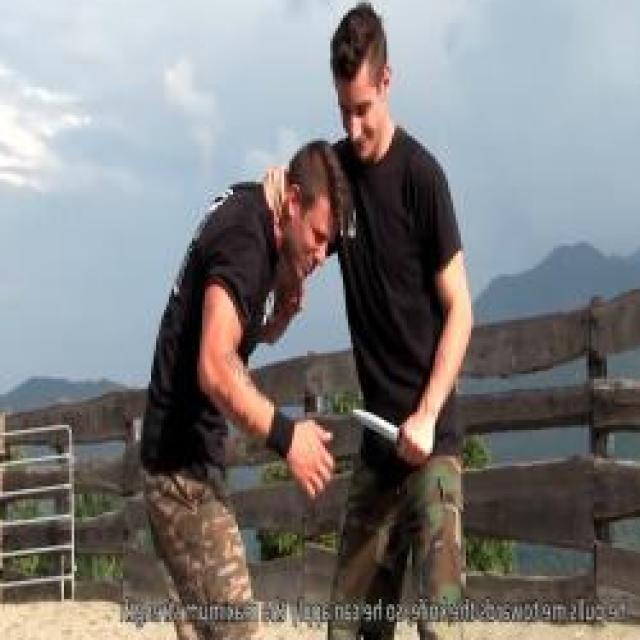knife: (346, 397, 435, 471)
